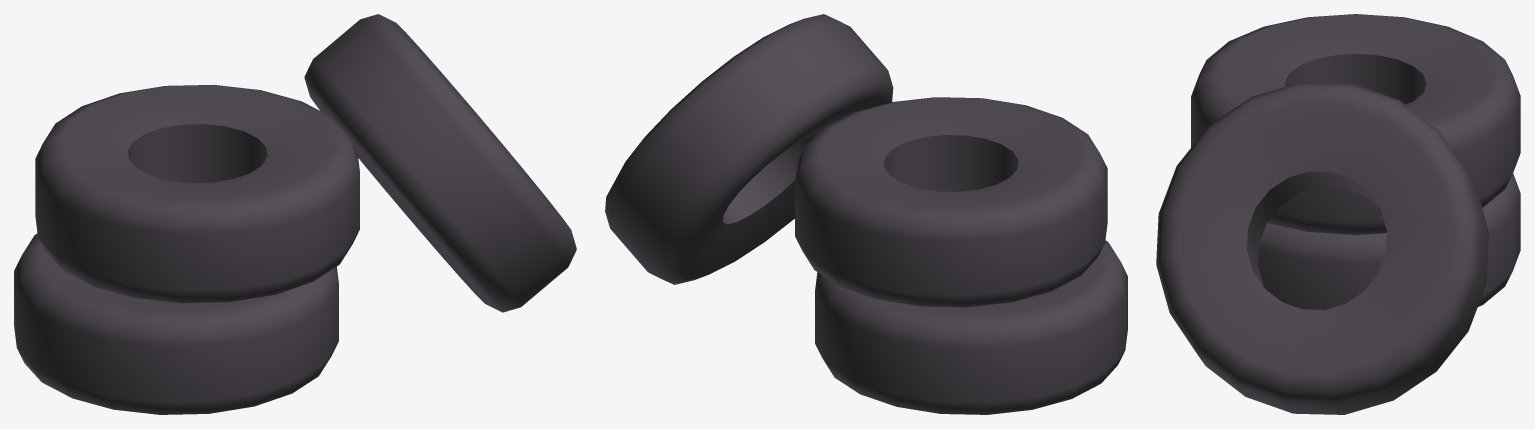
The model's file is Tyres.fbx.
3 views of the same model, side by side, from view 1: azimuth 30°, elevation 25°; view 2: azimuth 150°, elevation 25°; view 3: azimuth 270°, elevation 25° (orthographic). The views are drawn at different scales.
Visible parts, largest first — view 1: tyre3, Tyre2, tyre; view 2: tyre3, Tyre2, tyre; view 3: Tyre2, tyre3, tyre.
Boxes of the visible parts, box(x1,y1,x2,y2) form: tyre3: box(35, 84, 359, 303); Tyre2: box(304, 14, 576, 312); tyre: box(14, 233, 338, 414); tyre3: box(795, 97, 1107, 307); Tyre2: box(605, 14, 893, 284); tyre: box(815, 240, 1127, 414); Tyre2: box(1156, 82, 1488, 414); tyre3: box(1191, 14, 1520, 234); tyre: box(1258, 173, 1520, 309).
Bounding box in the file's own units: 215 × 117 × 134.
Materials: 1 (1 with a texture image).
